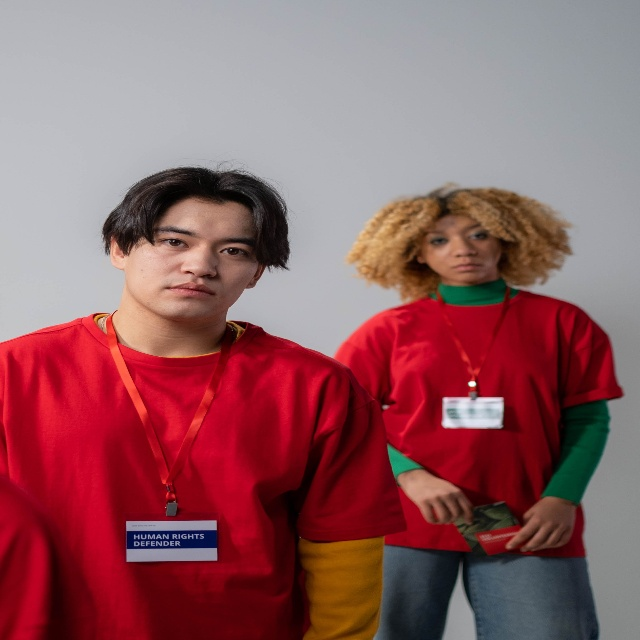Sin_guantes: (395, 470, 471, 525), (503, 501, 578, 553)
